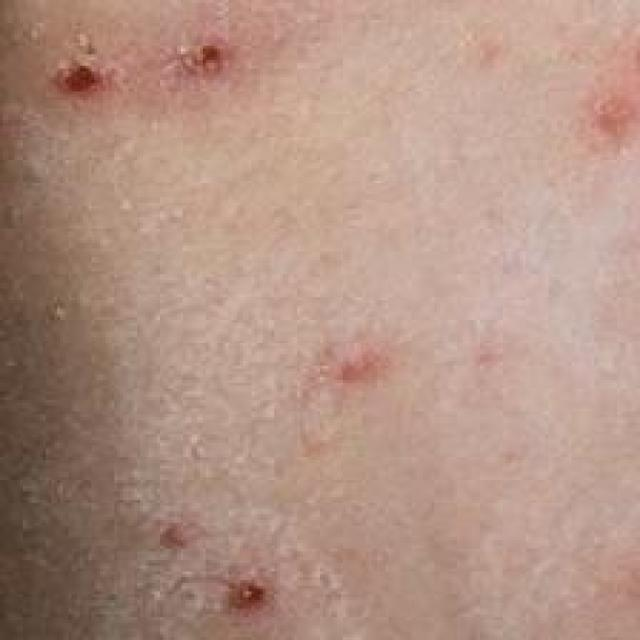others: (27, 22, 621, 640)
